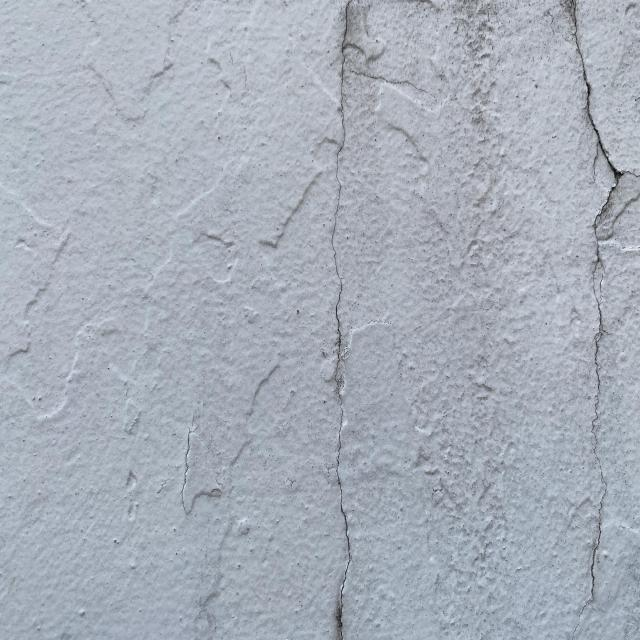SurfaceCrack: (271, 1, 405, 640), (524, 0, 640, 640)
